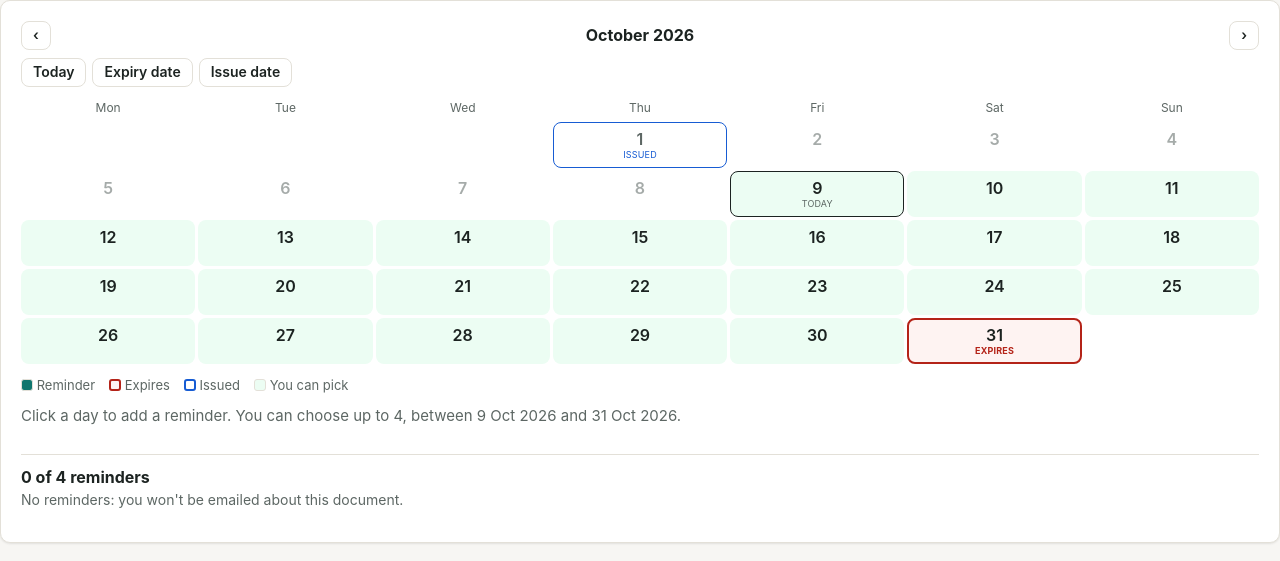
Test case: ReminderCalendar: the error messages › refuses a day that has already passed
This screenshot has width=1280, height=561.
Click the button named "Monday, 5 October 2026": [108, 194] box [21,171,195,217]
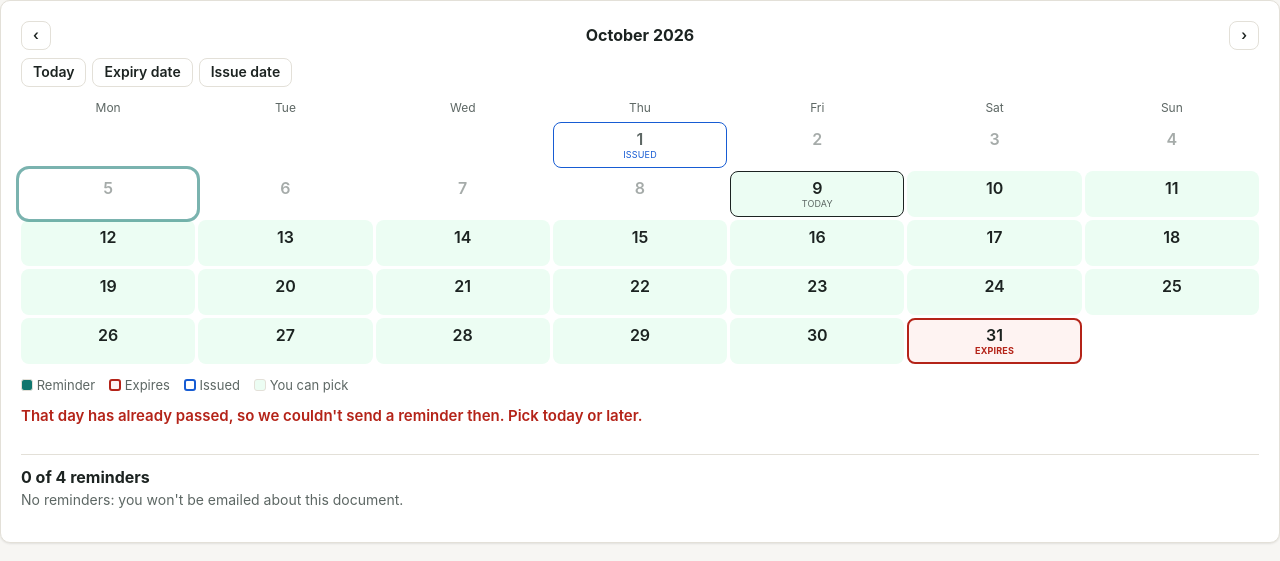
Expected: the message shows "That day has already passed, so we couldn't send a reminder then. Pick today or later.", [21,406,642,425]
